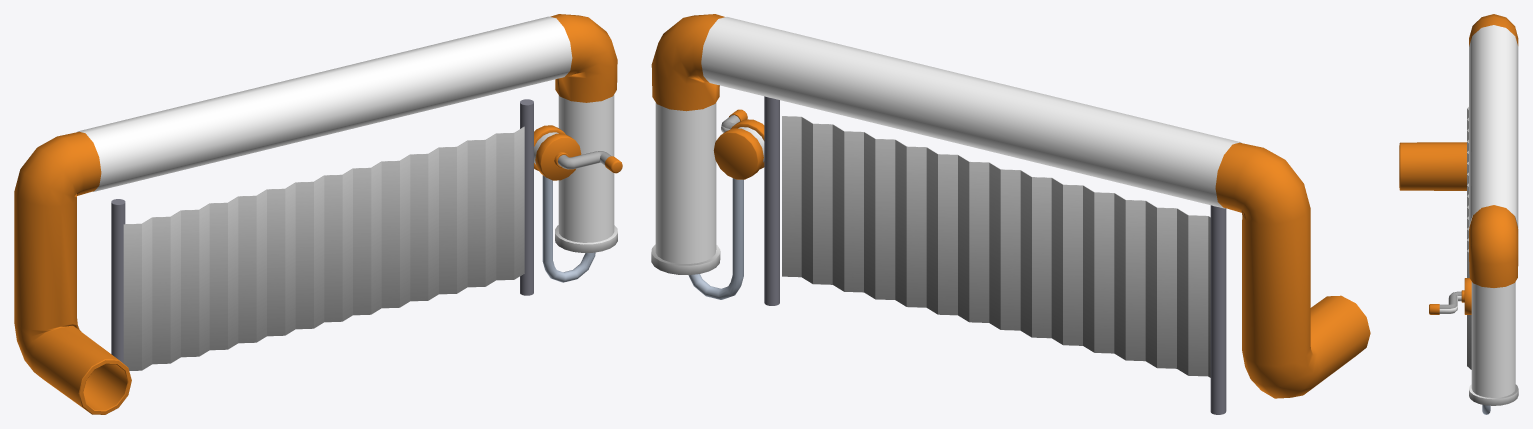
File: Gate-4.FBX
The picture shows the model from 3 angles, left to right: view 1: azimuth 30°, elevation 25°; view 2: azimuth 150°, elevation 25°; view 3: azimuth 270°, elevation 25°; orthographic projection. The views are drawn at different scales.
Visible parts, largest first — view 1: XScaleableGO, Pipe4__1_, Cylinder, Cylinder__21_, Cylinder__19_, Wheel, rope, WheelHand, Cylinder__1_; view 2: XScaleableGO, Pipe4__1_, Cylinder, Cylinder__19_, Cylinder__21_, Wheel, rope, Cylinder__1_; view 3: Pipe4__1_, Cylinder, XScaleableGO, Cylinder__1_, WheelHand, Wheel.
Part boxes in pixels (x1,y1,x2,y2): XScaleableGO: (123, 126, 524, 370); Pipe4__1_: (14, 14, 617, 414); Cylinder: (558, 94, 614, 242); Cylinder__21_: (520, 99, 533, 295); Cylinder__19_: (111, 199, 125, 363); Wheel: (534, 125, 581, 180); rope: (542, 175, 595, 282); WheelHand: (554, 151, 622, 173); Cylinder__1_: (555, 225, 617, 252); XScaleableGO: (782, 116, 1210, 377); Pipe4__1_: (651, 14, 1370, 398); Cylinder: (655, 102, 716, 263); Cylinder__19_: (1210, 205, 1226, 414); Cylinder__21_: (764, 96, 779, 305); Wheel: (713, 119, 764, 179); rope: (688, 178, 743, 299); Cylinder__1_: (651, 244, 720, 275); Pipe4__1_: (1399, 14, 1518, 287); Cylinder: (1471, 281, 1515, 397); XScaleableGO: (1467, 107, 1471, 369); Cylinder__1_: (1469, 384, 1518, 405); WheelHand: (1429, 290, 1464, 314); Wheel: (1464, 278, 1471, 314).
Bounding box in the file's own units: 232 × 97.23 × 51.41.
5 materials, 1 textured.
